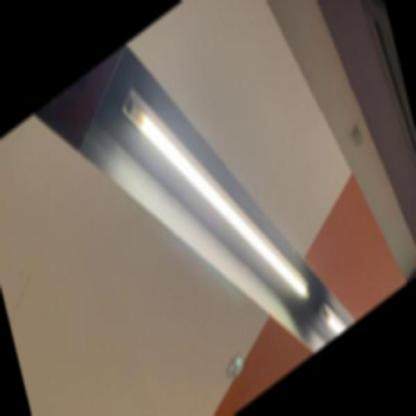light_on: (106, 0, 317, 399), (314, 283, 364, 348)
